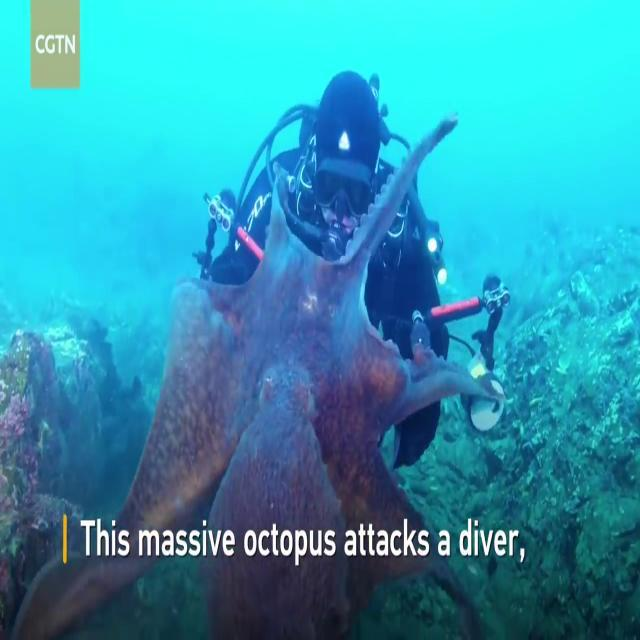octopus: (13, 107, 505, 640)
